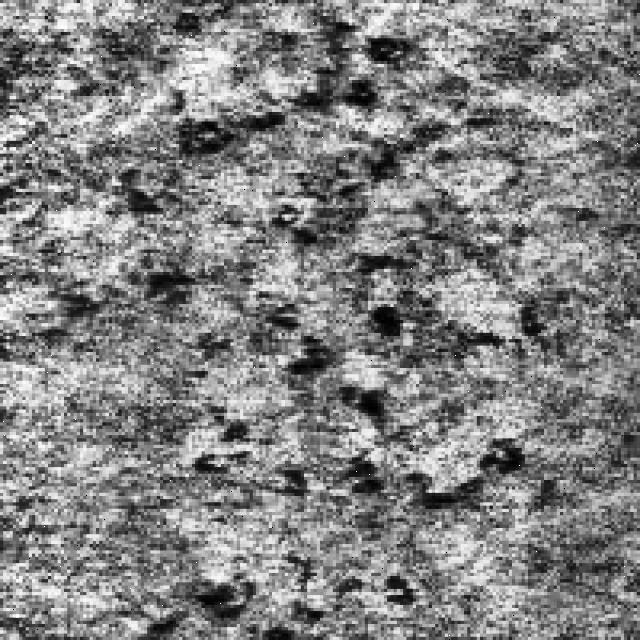Crazing: (230, 80, 458, 611)
